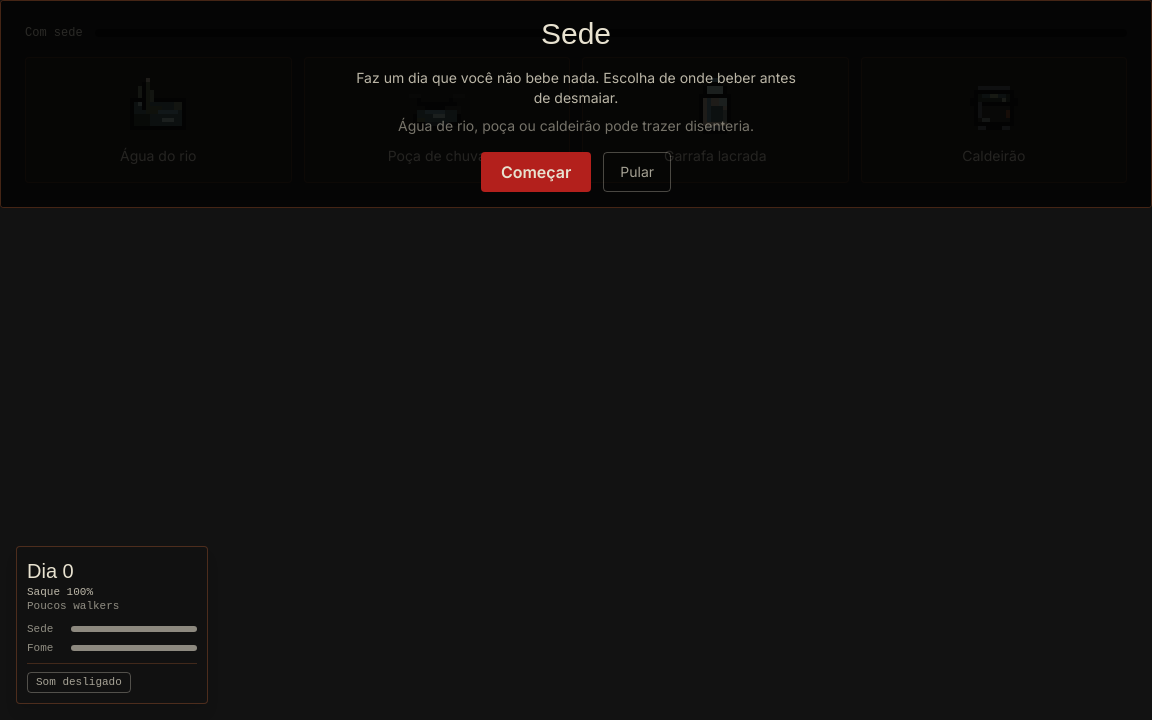
WaterGame › dirty water can make you Sick, shown in the HUD
Step 1. Click the button "Começar" → (536, 172), box x1=481 y1=152 x2=591 y2=192
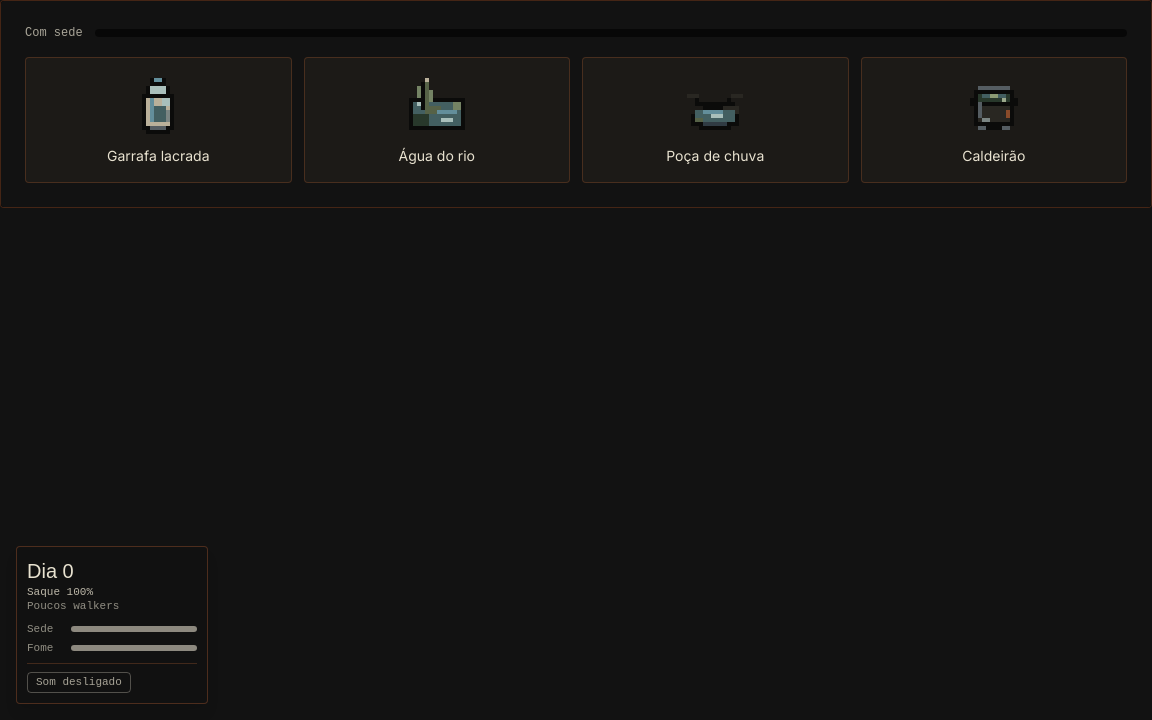
Step 2. Click the button "Poça de chuva" → (715, 120), box x1=582 y1=57 x2=848 y2=183
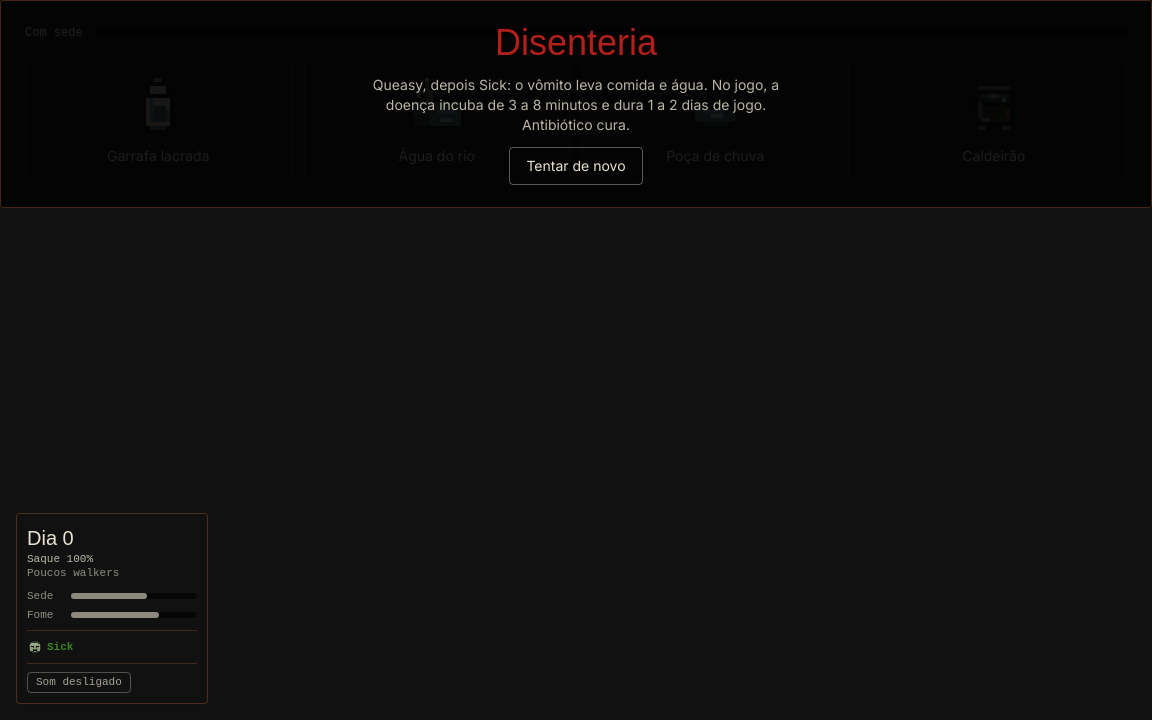
expect the heading "Disenteria" is shown: met, box x1=495 y1=23 x2=657 y2=63
expect the message named "sobrevivente" shows "Sick": met, box x1=47 y1=641 x2=73 y2=653
